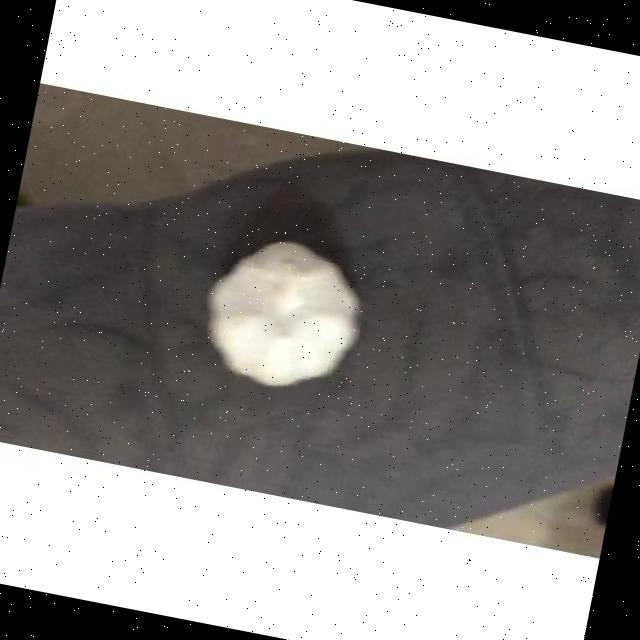garlic: (208, 241, 359, 386)
